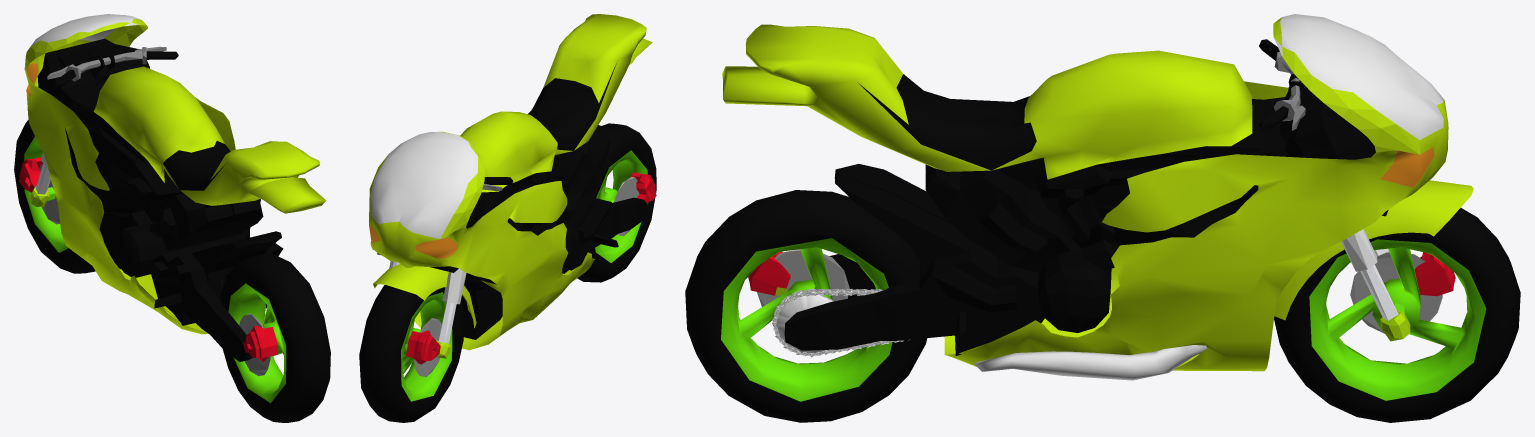
The model's file is motor.fbx.
3 renders of one model, left to right at view 1: azimuth 30°, elevation 25°; view 2: azimuth 150°, elevation 25°; view 3: azimuth 270°, elevation 25°, orthographic. The views are drawn at different scales.
Parts seen in each view (by area): view 1: Superbike_0, Superbike_1, Superbike_14, Superbike_13, Superbike_5, Superbike_7, Superbike_11, Superbike_15, Superbike_6, Superbike_4; view 2: Superbike_0, Superbike_14, Superbike_1, Superbike_11, Superbike_13, Superbike_5, Superbike_7, Superbike_15, Superbike_12, Superbike_3, Superbike_4; view 3: Superbike_0, Superbike_1, Superbike_14, Superbike_13, Superbike_11, Superbike_5, Superbike_8, Superbike_15, Superbike_7, Superbike_9, Superbike_12, Superbike_4 (+3 smaller).
Part boxes in pixels (x1=…): Superbike_0: x1=24, y1=18, x2=326, y2=334; Superbike_1: x1=37, y1=38, x2=283, y2=361; Superbike_14: x1=14, y1=119, x2=330, y2=422; Superbike_13: x1=24, y1=136, x2=286, y2=403; Superbike_5: x1=55, y1=51, x2=230, y2=190; Superbike_7: x1=18, y1=157, x2=277, y2=361; Superbike_11: x1=28, y1=14, x2=140, y2=49; Superbike_15: x1=39, y1=164, x2=270, y2=376; Superbike_6: x1=47, y1=46, x2=166, y2=81; Superbike_4: x1=36, y1=164, x2=50, y2=194; Superbike_0: x1=369, y1=14, x2=652, y2=350; Superbike_14: x1=359, y1=123, x2=656, y2=422; Superbike_1: x1=377, y1=125, x2=647, y2=339; Superbike_11: x1=370, y1=131, x2=477, y2=239; Superbike_13: x1=401, y1=150, x2=647, y2=401; Superbike_5: x1=484, y1=63, x2=616, y2=184; Superbike_7: x1=406, y1=172, x2=656, y2=364; Superbike_15: x1=414, y1=177, x2=639, y2=376; Superbike_12: x1=369, y1=225, x2=458, y2=258; Superbike_3: x1=389, y1=261, x2=466, y2=304; Superbike_4: x1=438, y1=302, x2=456, y2=343; Superbike_0: x1=722, y1=17, x2=1473, y2=371; Superbike_1: x1=784, y1=73, x2=1388, y2=355; Superbike_14: x1=685, y1=190, x2=1520, y2=422; Superbike_13: x1=721, y1=238, x2=1486, y2=401; Superbike_11: x1=1274, y1=14, x2=1444, y2=139; Superbike_5: x1=857, y1=39, x2=1288, y2=170; Superbike_8: x1=974, y1=345, x2=1206, y2=380; Superbike_15: x1=757, y1=249, x2=1442, y2=333; Superbike_7: x1=748, y1=251, x2=1455, y2=296; Superbike_9: x1=772, y1=288, x2=908, y2=357; Superbike_12: x1=1380, y1=147, x2=1434, y2=187; Superbike_4: x1=1360, y1=248, x2=1398, y2=320.
Size of the model in its own units: 143 by 272 by 526.
